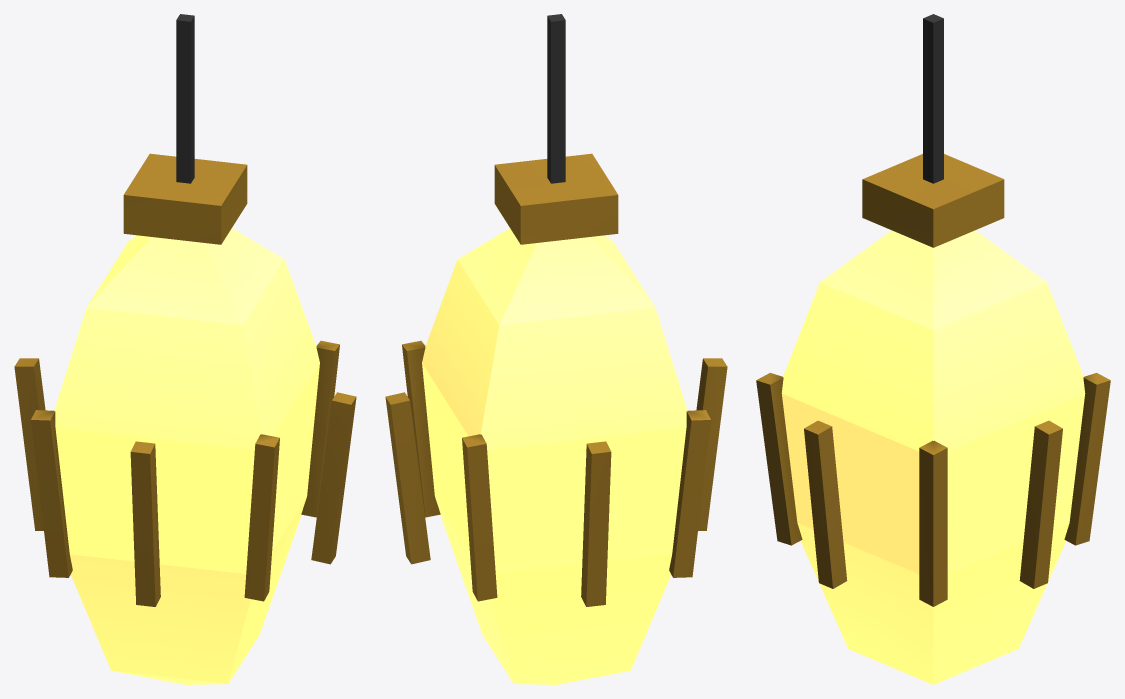
Rendered from du_lantern_lo-NSOwd_nx.glb.
The picture shows the model from 3 angles, left to right: view 1: azimuth 30°, elevation 25°; view 2: azimuth 150°, elevation 25°; view 3: azimuth 270°, elevation 25°; orthographic projection.
Size of the model in its own units: 0.4997 by 1.03 by 0.4997.
